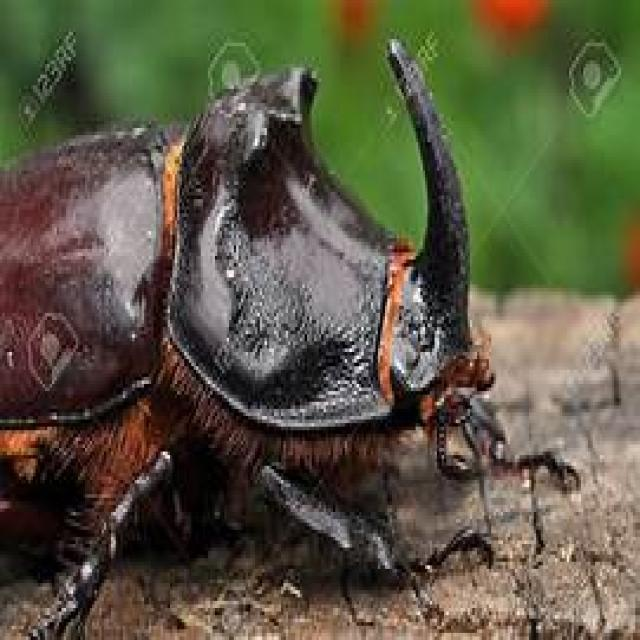Rhino-beetle: (5, 41, 511, 638)
